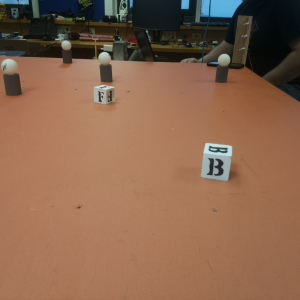blockB: (201, 144, 231, 180)
blockF: (92, 86, 113, 104)
corner: (236, 17, 249, 64)
obstacle: (2, 58, 21, 96), (215, 56, 232, 82), (99, 52, 111, 83), (61, 39, 72, 67)
